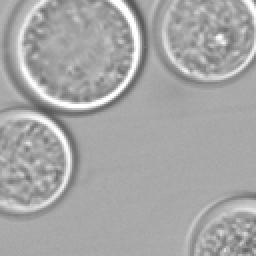picoshell: (6, 0, 144, 114), (152, 0, 256, 86), (0, 106, 76, 214), (182, 190, 256, 256)
